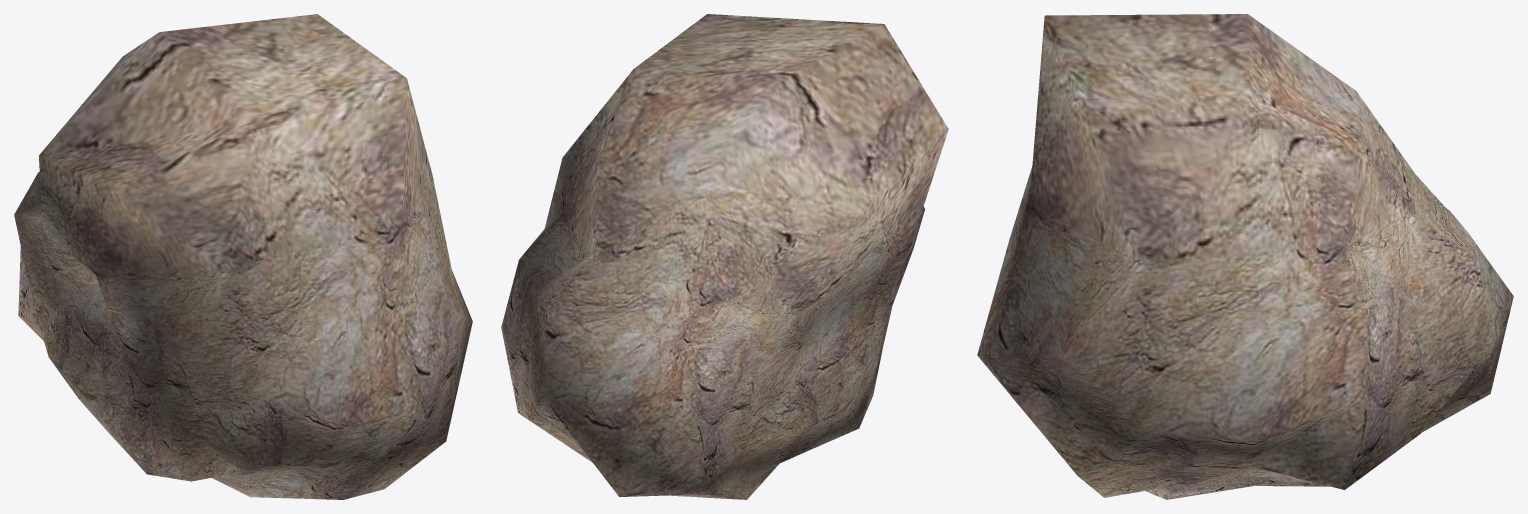
File: stone_04.fbx
3 views of the same model, side by side, from view 1: azimuth 30°, elevation 25°; view 2: azimuth 150°, elevation 25°; view 3: azimuth 270°, elevation 25° (orthographic). The views are drawn at different scales.
Parts seen in each view (by area): view 1: pCube7; view 2: pCube7; view 3: pCube7.
Boxes of the visible parts, <box> form: pCube7: <box>14,14,472,499</box>; pCube7: <box>501,14,948,499</box>; pCube7: <box>977,14,1513,499</box>.
Bounding box in the file's own units: 3.09 × 3.34 × 3.73.
